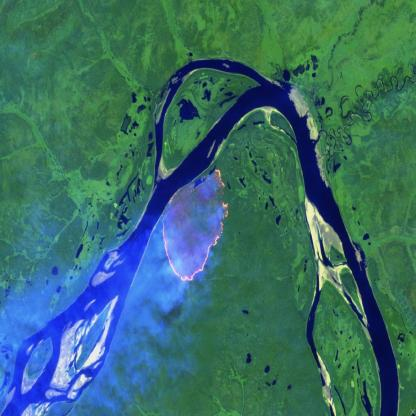fire: (160, 168, 232, 287)
